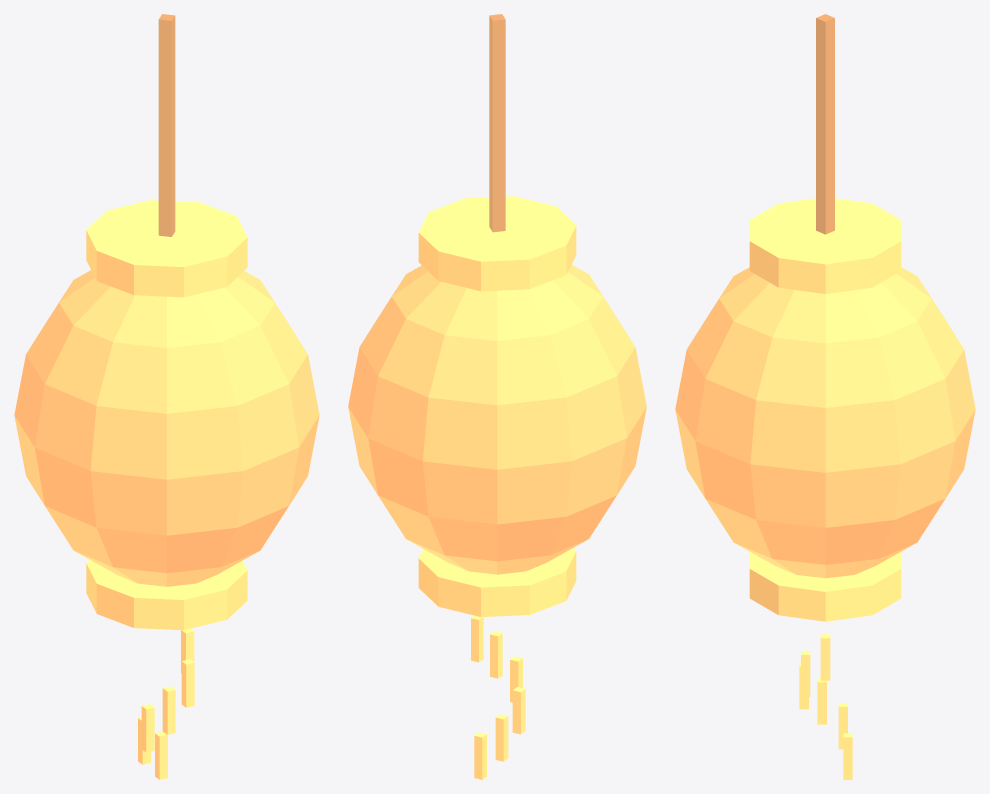
The model's file is paper-lantern.glb.
The picture shows the model from 3 angles, left to right: view 1: azimuth 30°, elevation 25°; view 2: azimuth 150°, elevation 25°; view 3: azimuth 270°, elevation 25°; orthographic projection. The views are drawn at different scales.
Visible parts, largest first — view 1: paper-lantern; view 2: paper-lantern; view 3: paper-lantern.
Boxes of the visible parts, x1=… form: paper-lantern: x1=14, y1=14, x2=319, y2=779; paper-lantern: x1=348, y1=14, x2=646, y2=779; paper-lantern: x1=675, y1=14, x2=975, y2=779.
Size of the model in its own units: 0.64 by 1.78 by 0.64.
